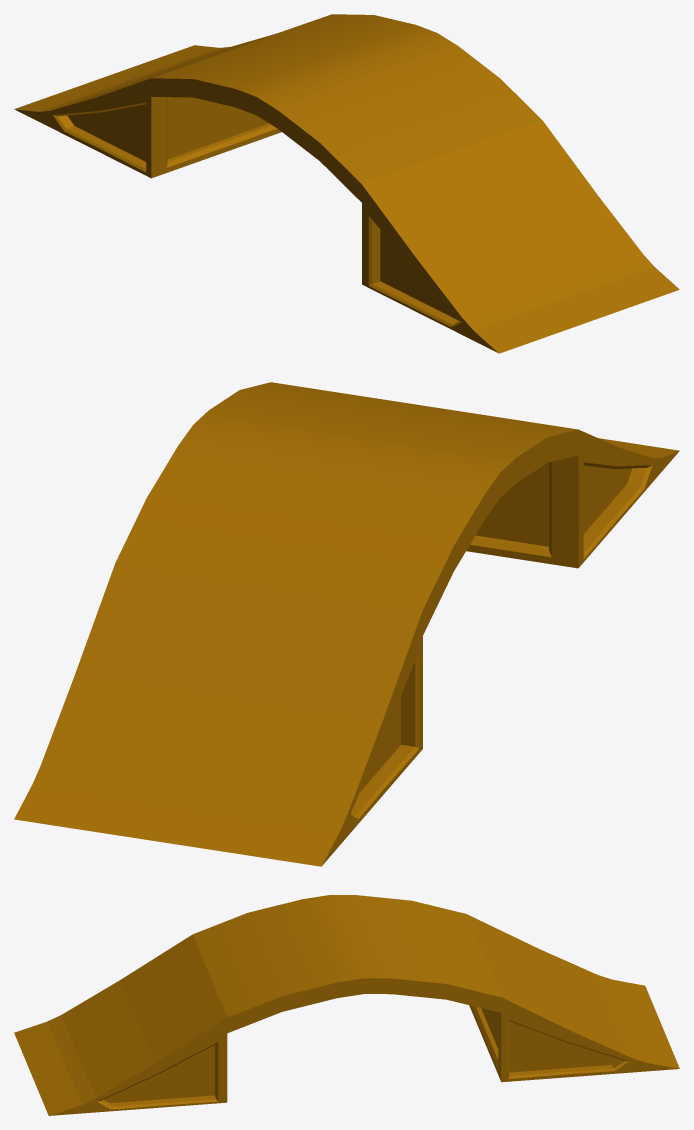
File: bridge.fbx
3 views of the same model, one above another, from view 1: azimuth 30°, elevation 25°; view 2: azimuth 150°, elevation 25°; view 3: azimuth 270°, elevation 25° (orthographic). The views are drawn at different scales.
Visible parts, largest first — view 1: pont; view 2: pont; view 3: pont.
Part boxes in pixels (x1=…): pont: x1=14, y1=14, x2=679, y2=353; pont: x1=14, y1=382, x2=679, y2=866; pont: x1=14, y1=895, x2=679, y2=1115.
Size of the model in its own units: 4.88 by 1.99 by 10.53.
